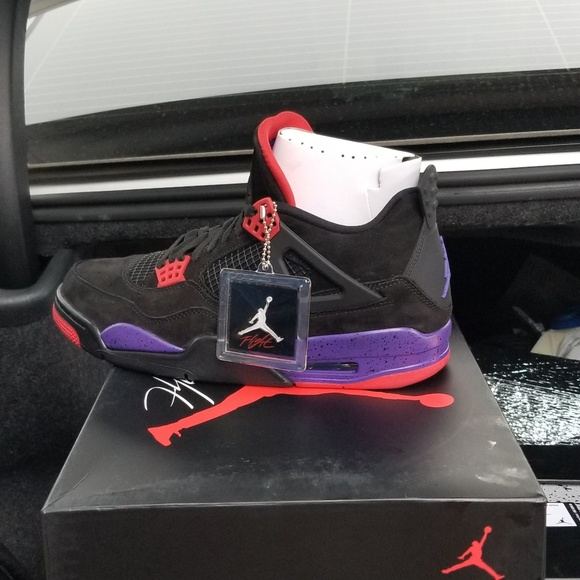Air Jordan 4 Raptors: (49, 101, 464, 393)
